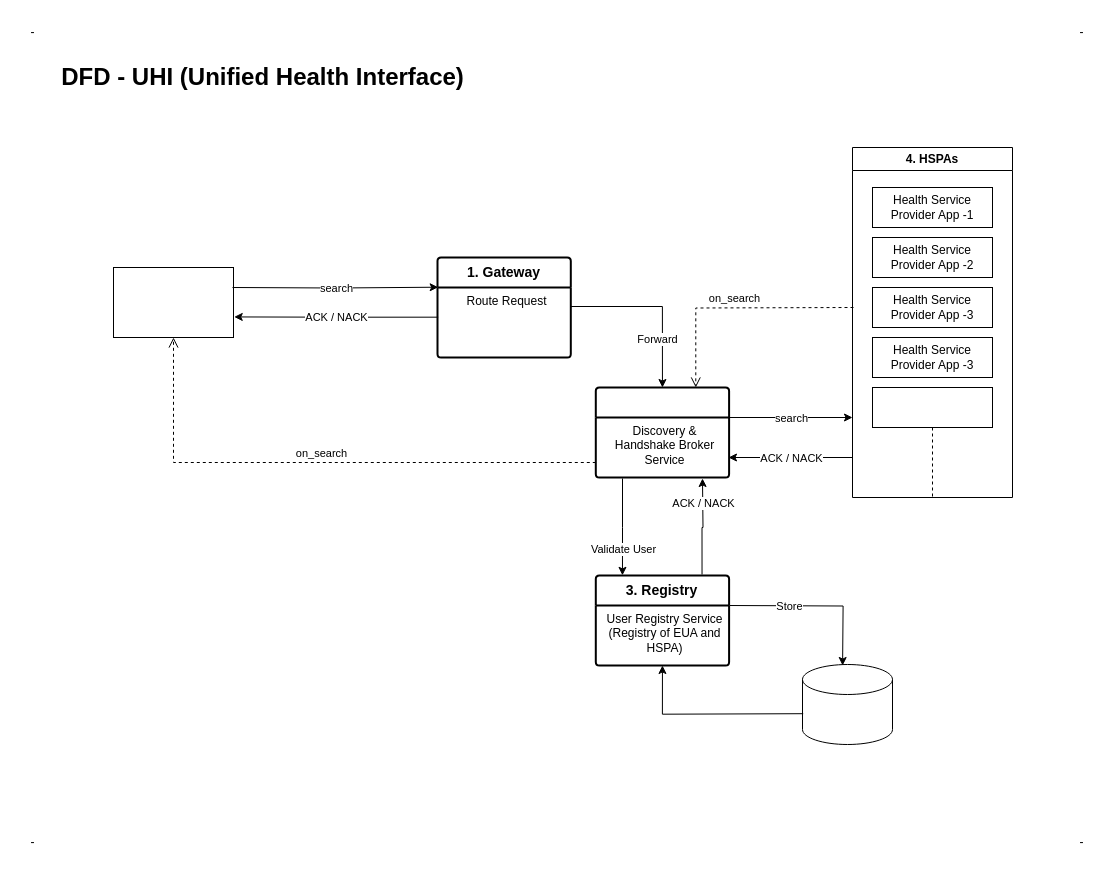
Image size: 1113x874. Some labels were removed from this diagram. Here are the shapes that lost their labels. From the top down, the box of each, then its label:
(112, 266, 234, 338): EUA (End User App)
(594, 386, 730, 478): 2. Discovery
(872, 386, 992, 498): Health Service Provider App -5
(802, 664, 892, 744): User Registry
